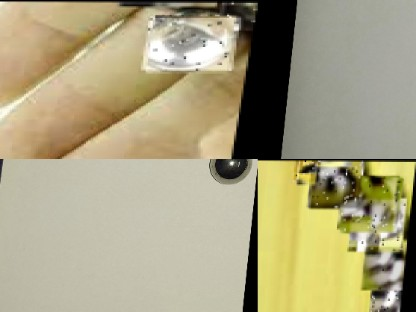ironball: (143, 15, 241, 68), (341, 175, 403, 230), (350, 197, 409, 250), (308, 159, 363, 206), (364, 237, 409, 288), (372, 257, 407, 312), (205, 158, 253, 183), (218, 0, 257, 28), (294, 159, 320, 180), (118, 0, 217, 5), (302, 159, 351, 165)
